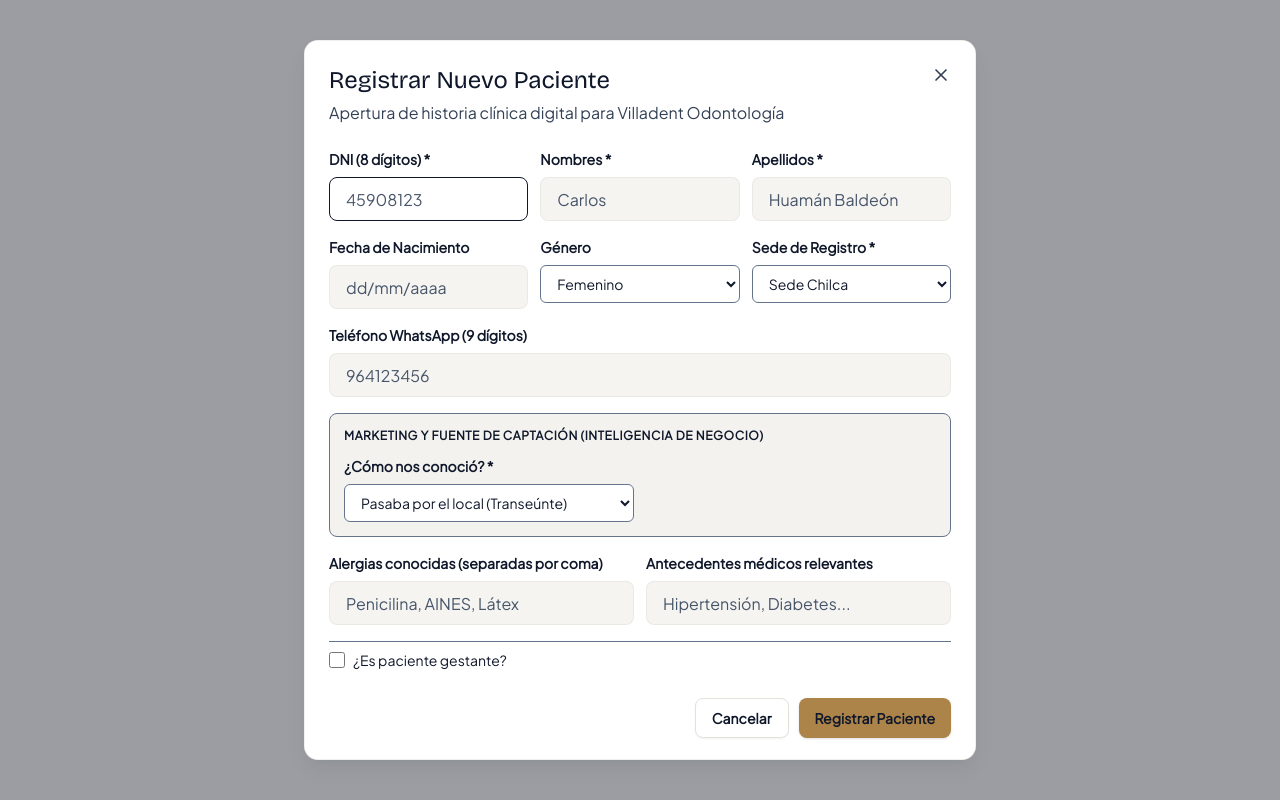
Test case: RegistrarNuevoPacienteModal según negocio activo › la fecha de nacimiento se escribe con el teclado (no es un calendario) y se envía en formato ISO
Later steps or results of the test are not shown.
Type "71213266" into the field labelled "DNI (8 dígitos) *" at (429, 199), box [329,177,528,221]
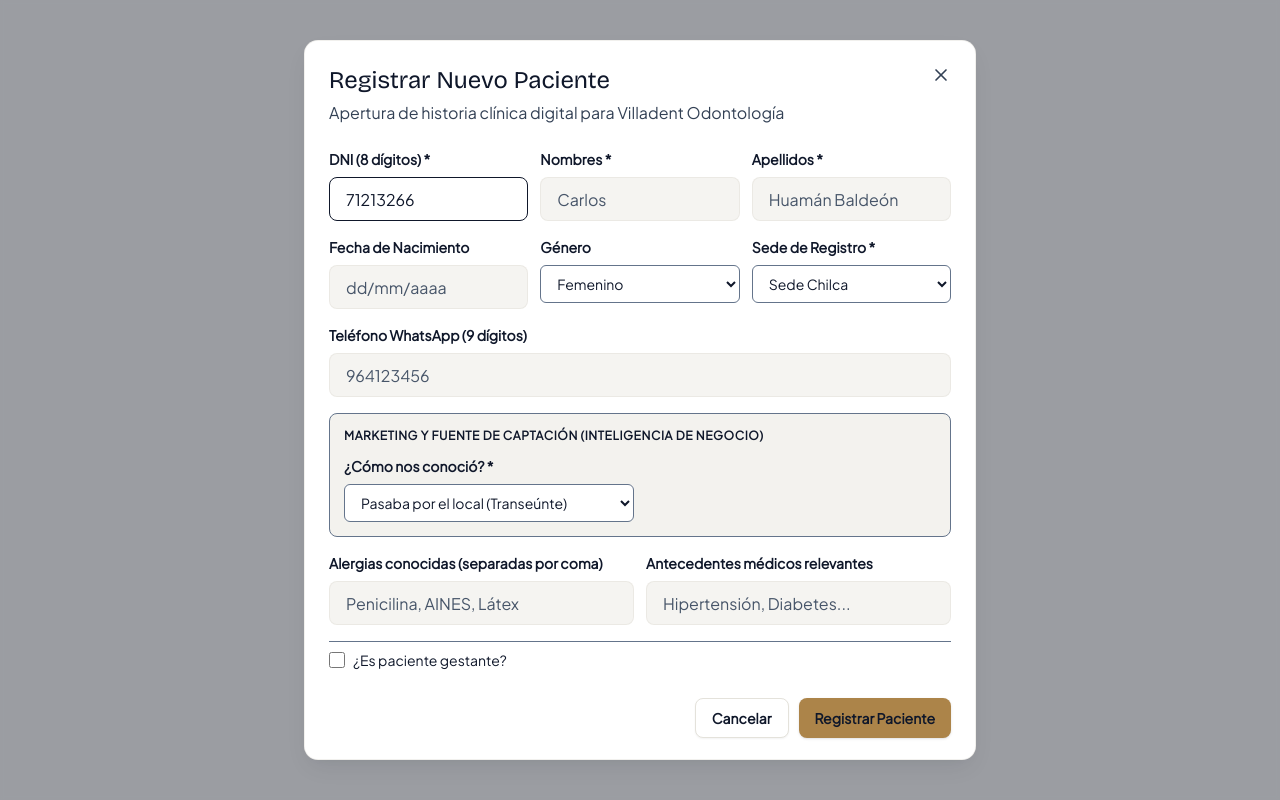
Type "Gustavo" into the field labelled "Nombres *" at (640, 199), box [540,177,740,221]
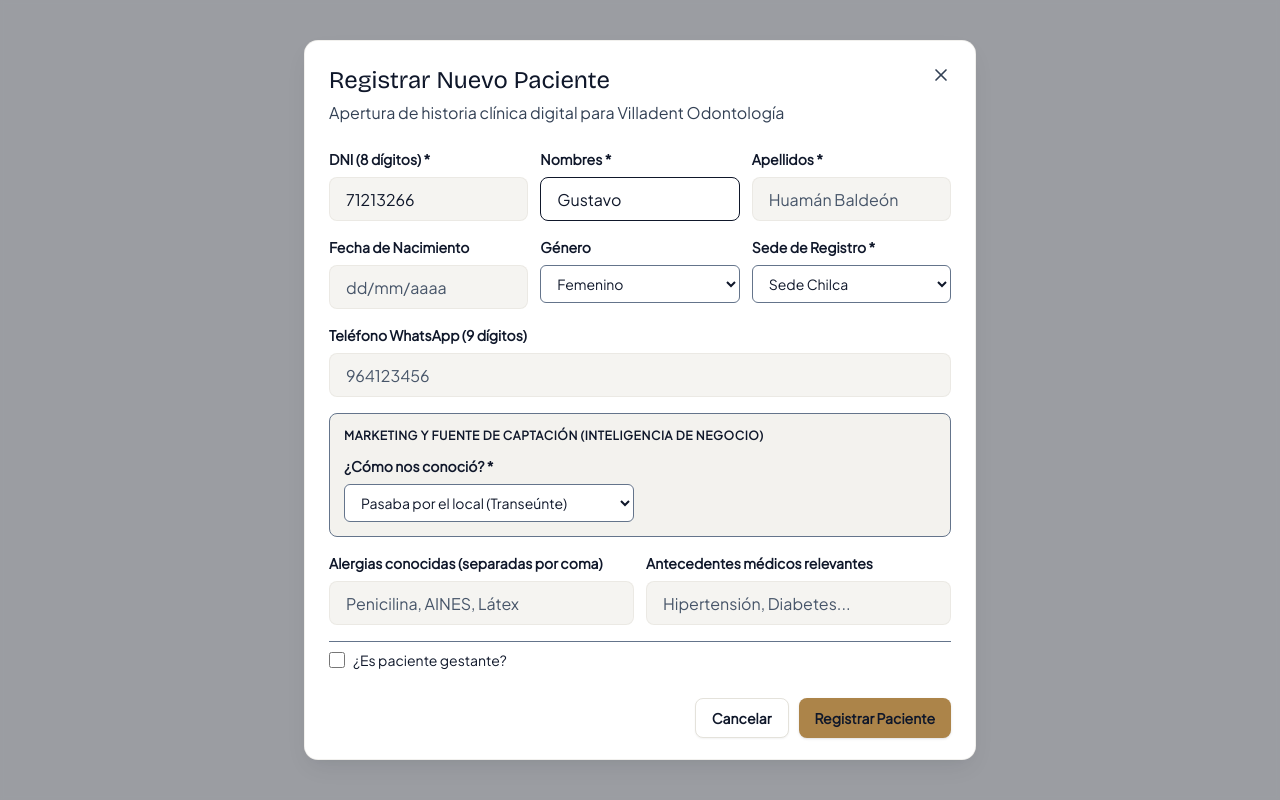
Type "Machuca Peñaloza" into the field labelled "Apellidos *" at (851, 199), box [752,177,951,221]
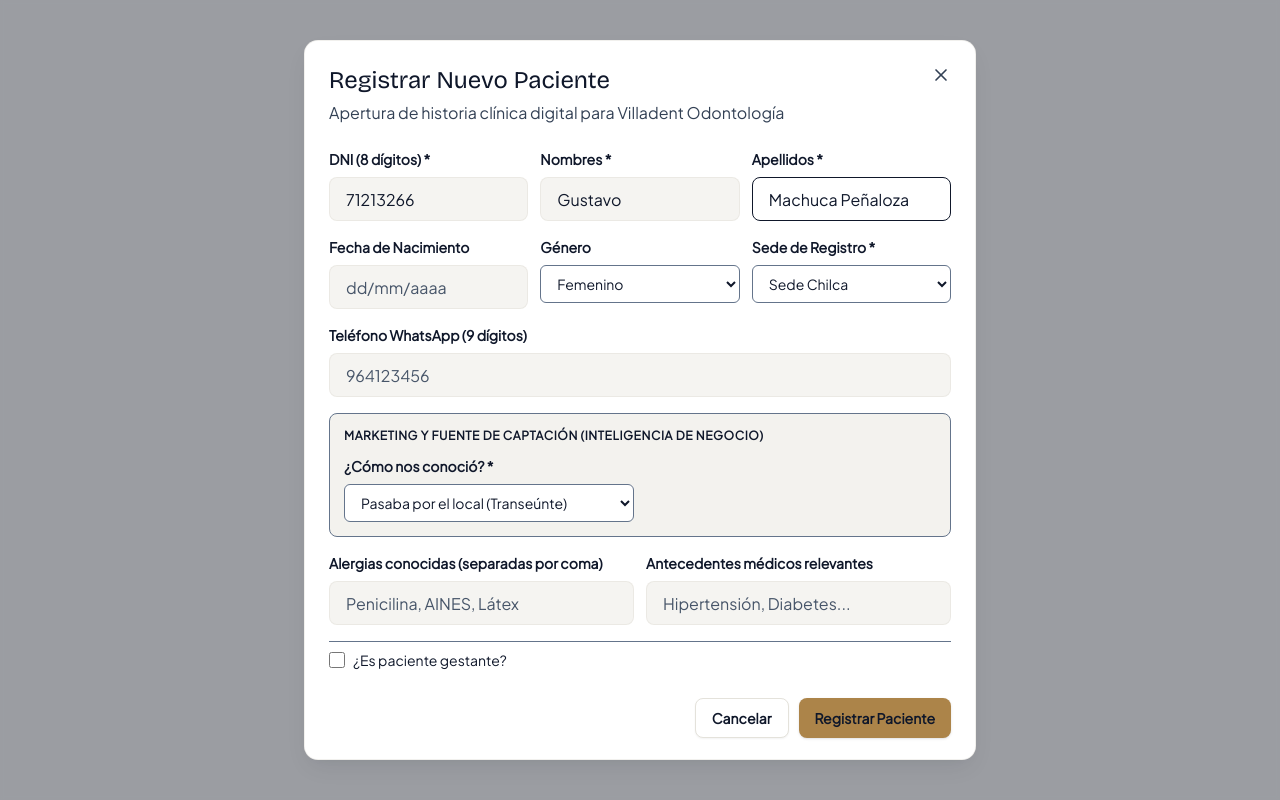
Type "15031975" into the field labelled "Fecha de Nacimiento" at (429, 287), box [329,265,528,309]
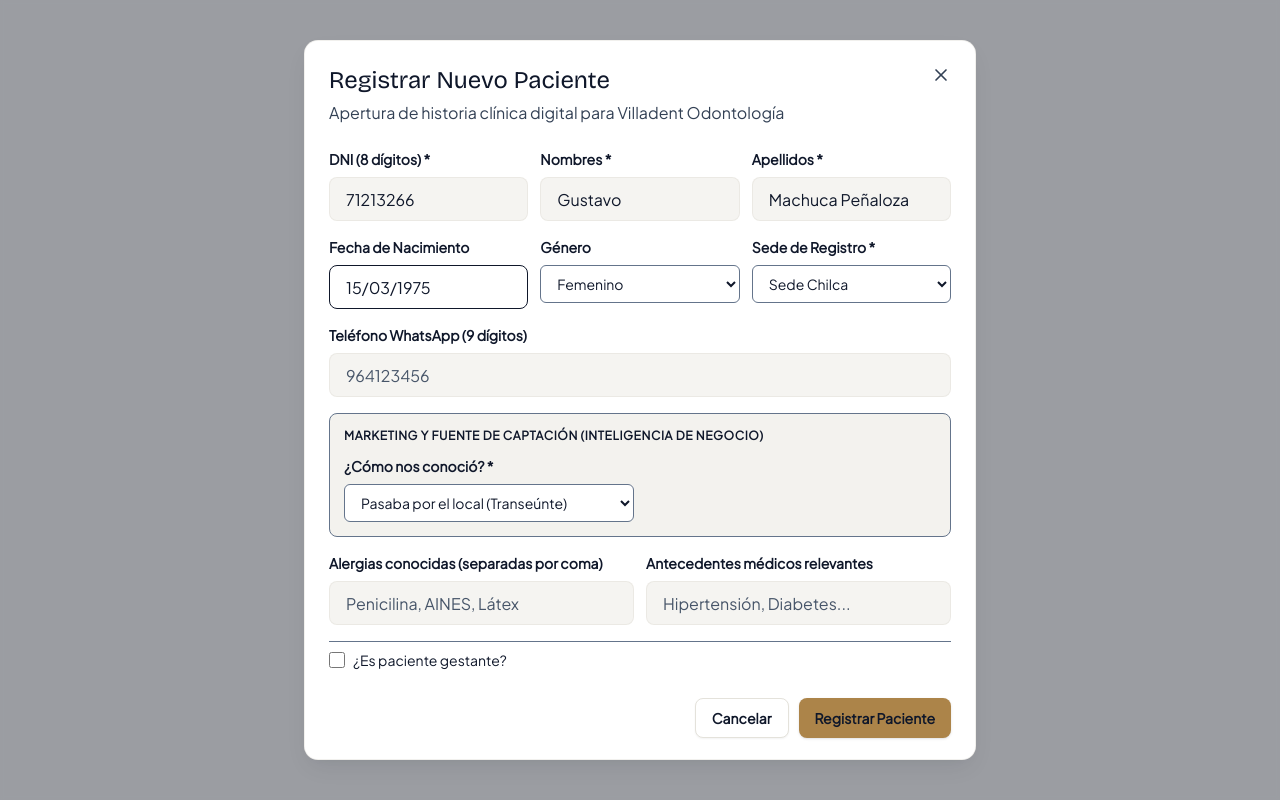
Expected: the field labelled "Fecha de Nacimiento" holds "15/03/1975", [329,265,528,309]
